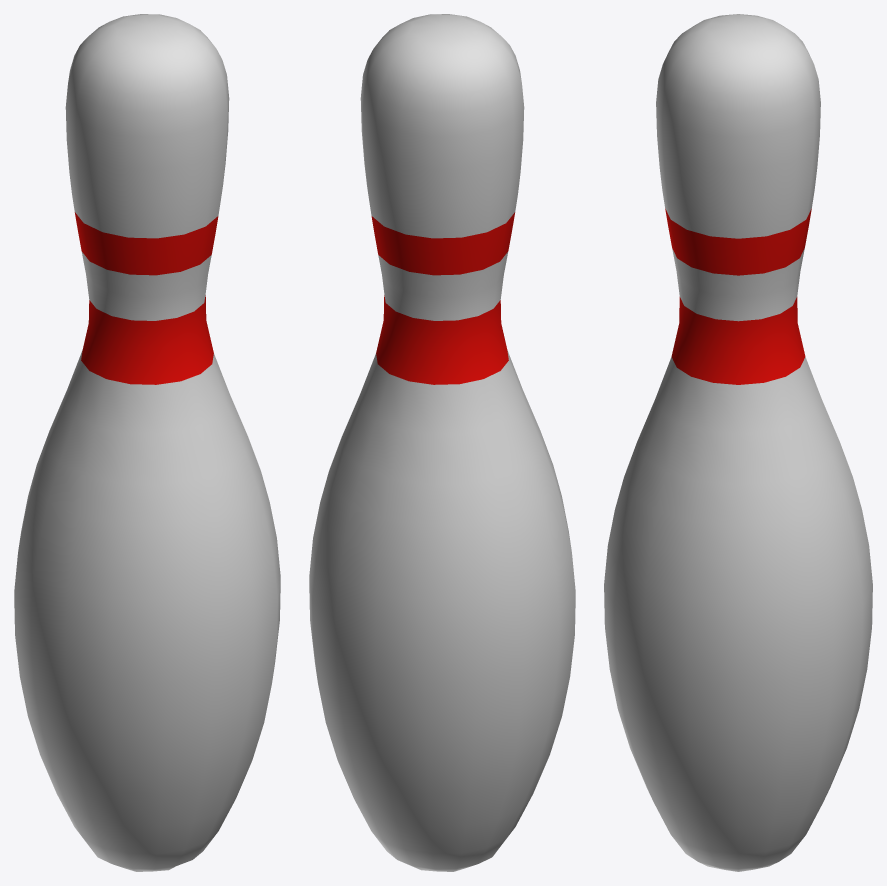
The model's file is Pin.fbx.
The picture shows the model from 3 angles, left to right: view 1: azimuth 30°, elevation 25°; view 2: azimuth 150°, elevation 25°; view 3: azimuth 270°, elevation 25°; orthographic projection.
Visible parts, largest first — view 1: Cylinder; view 2: Cylinder; view 3: Cylinder.
Part boxes in pixels (box(x1,y1,x2,y2)): Cylinder: box(14, 14, 280, 871); Cylinder: box(309, 14, 575, 871); Cylinder: box(604, 14, 872, 871).
Size of the model in its own units: 133 by 454 by 133.
